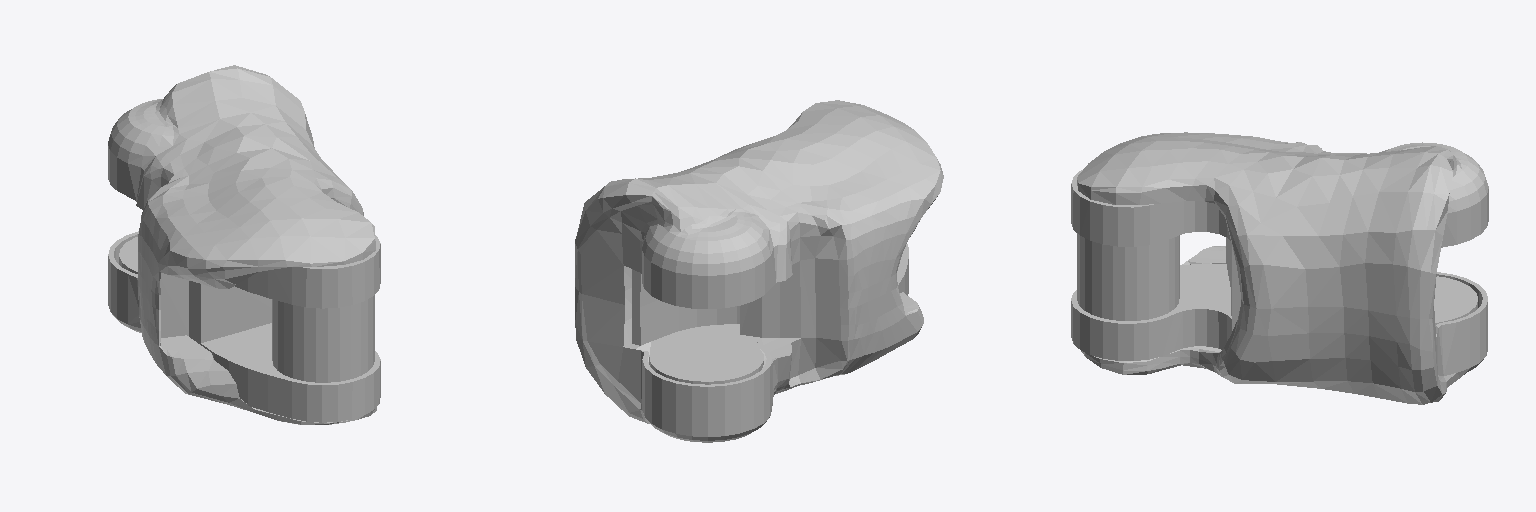
File: LHipPitch.obj
3 views of the same model, side by side, from view 1: azimuth 30°, elevation 25°; view 2: azimuth 150°, elevation 25°; view 3: azimuth 270°, elevation 25° (orthographic).
Parts seen in each view (by area): view 1: root; view 2: root; view 3: root.
Part boxes in pixels (left/top/right/bottom): root: left=108, top=65, right=380, bottom=424; root: left=575, top=100, right=943, bottom=442; root: left=1071, top=132, right=1488, bottom=404.
Size of the model in its own units: 95.85 by 89.55 by 143.